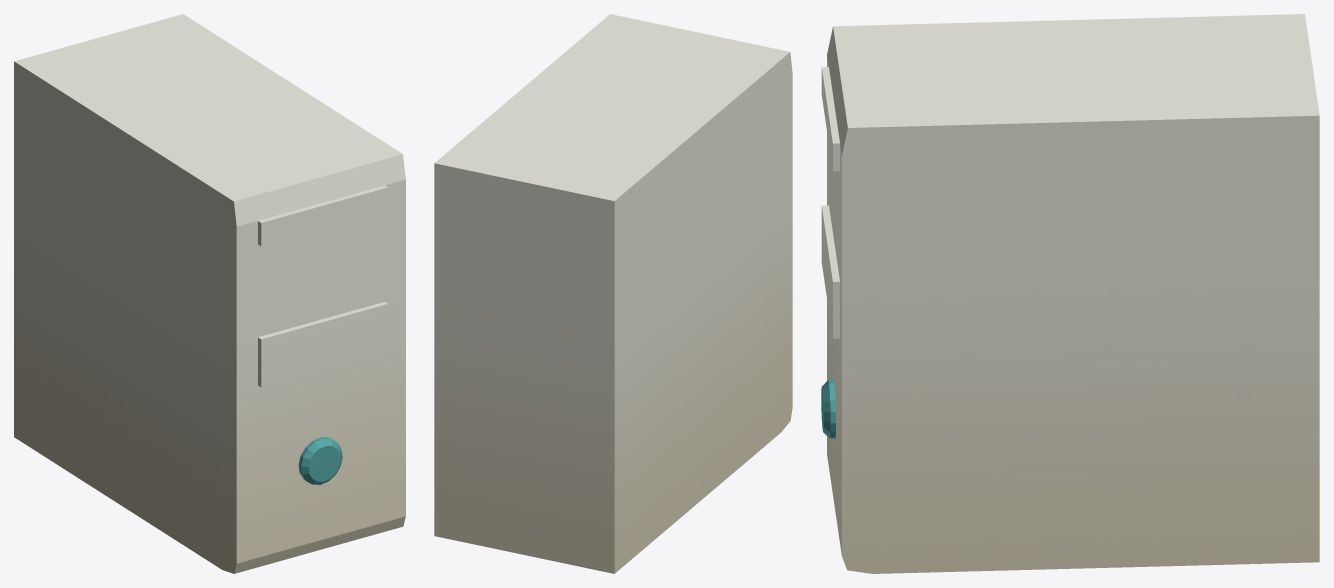
3 renders of one model, left to right at view 1: azimuth 30°, elevation 25°; view 2: azimuth 150°, elevation 25°; view 3: azimuth 270°, elevation 25°, orthographic. The views are drawn at different scales.
Parts seen in each view (by area): view 1: Pc; view 2: Pc; view 3: Pc.
Boxes of the visible parts, box(x1,y1,x2,y2) form: Pc: box(14, 14, 405, 573); Pc: box(434, 14, 792, 573); Pc: box(821, 14, 1319, 573).
Bounding box in the file's own units: 1.5 × 1.48 × 0.8112.
